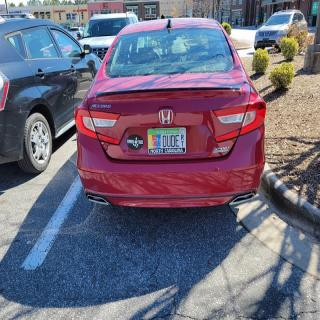license: (148, 128, 187, 155)
